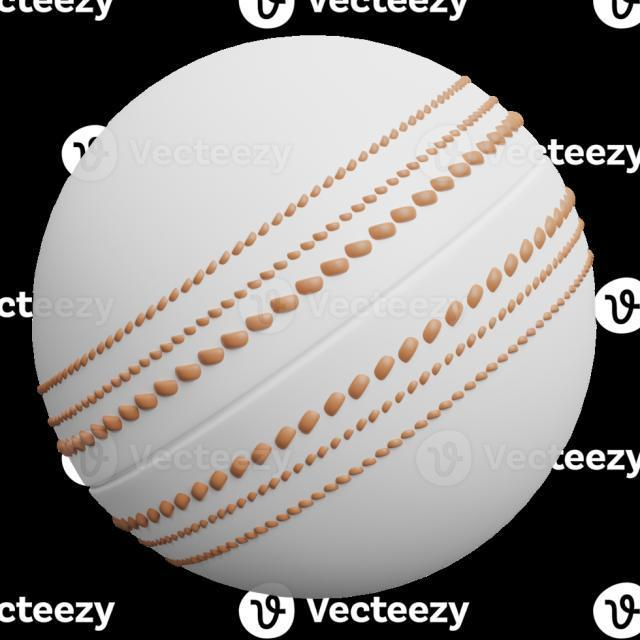cricket ball: (33, 36, 596, 599)
